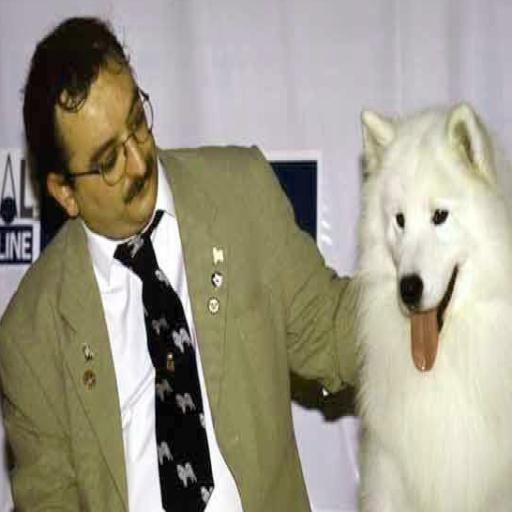dog_face: (355, 104, 506, 358)
